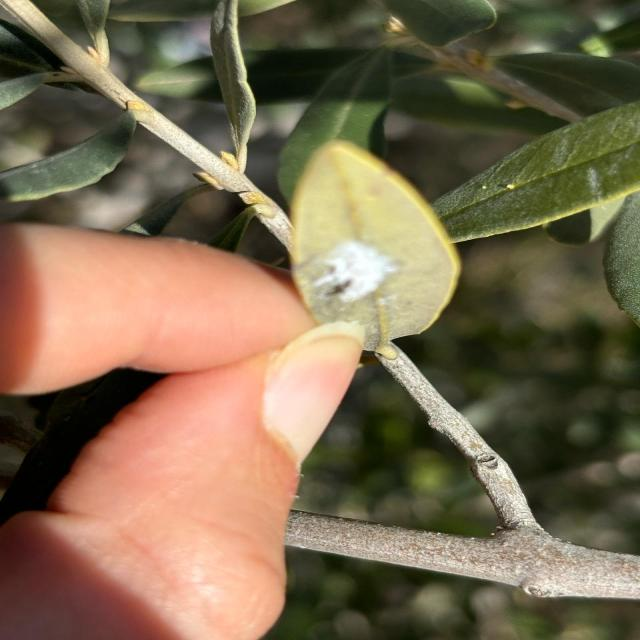Psyllid: (295, 206, 437, 349)
